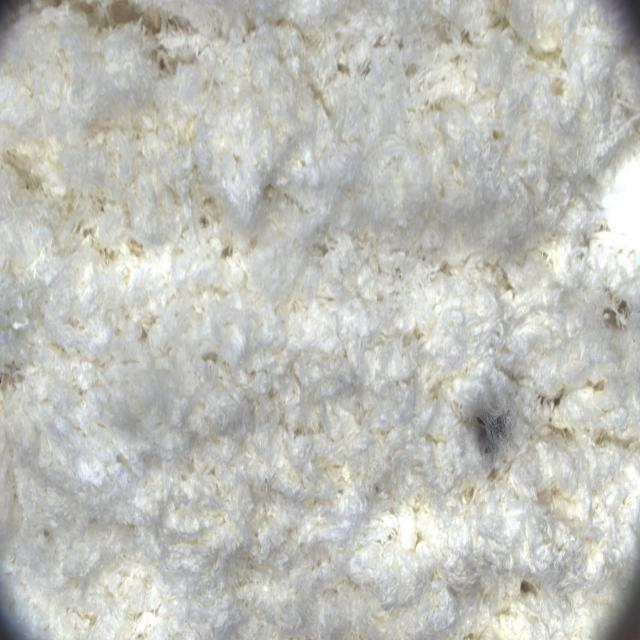dust: (428, 370, 536, 477)
